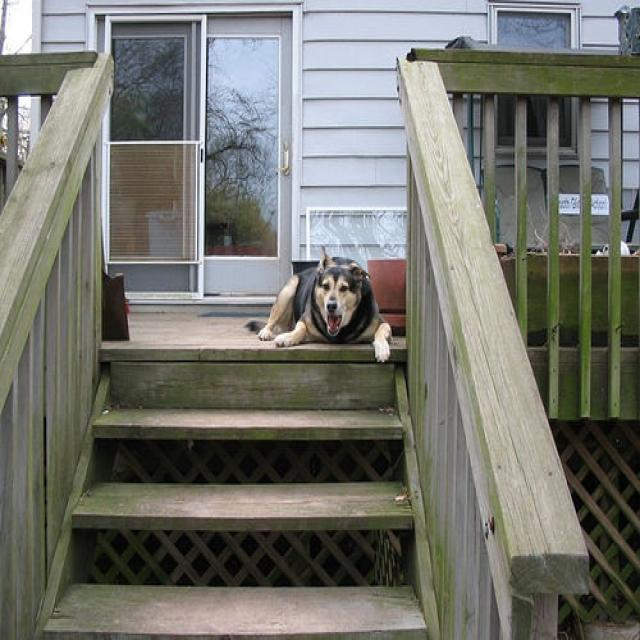dog: (259, 244, 396, 362)
